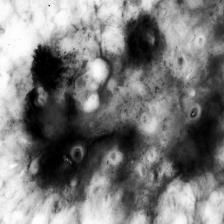Potentially Malignant Skin Tumors: (171, 128, 215, 182), (30, 46, 68, 99), (122, 16, 156, 64)
